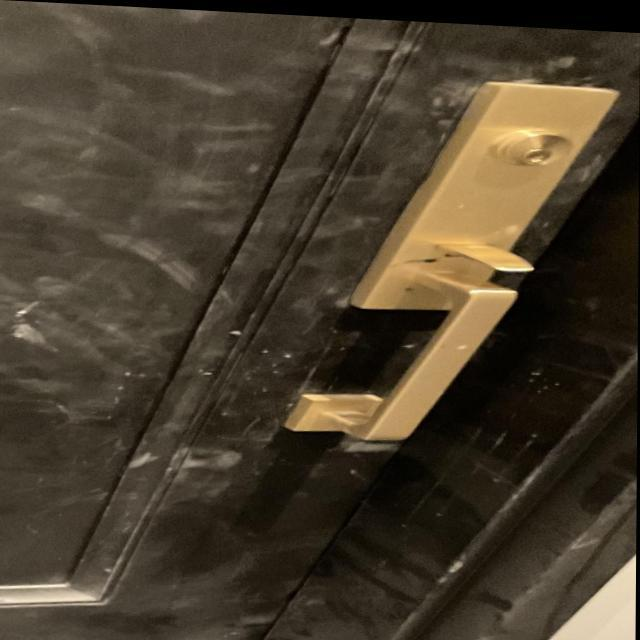door_handle: (291, 259, 535, 454)
